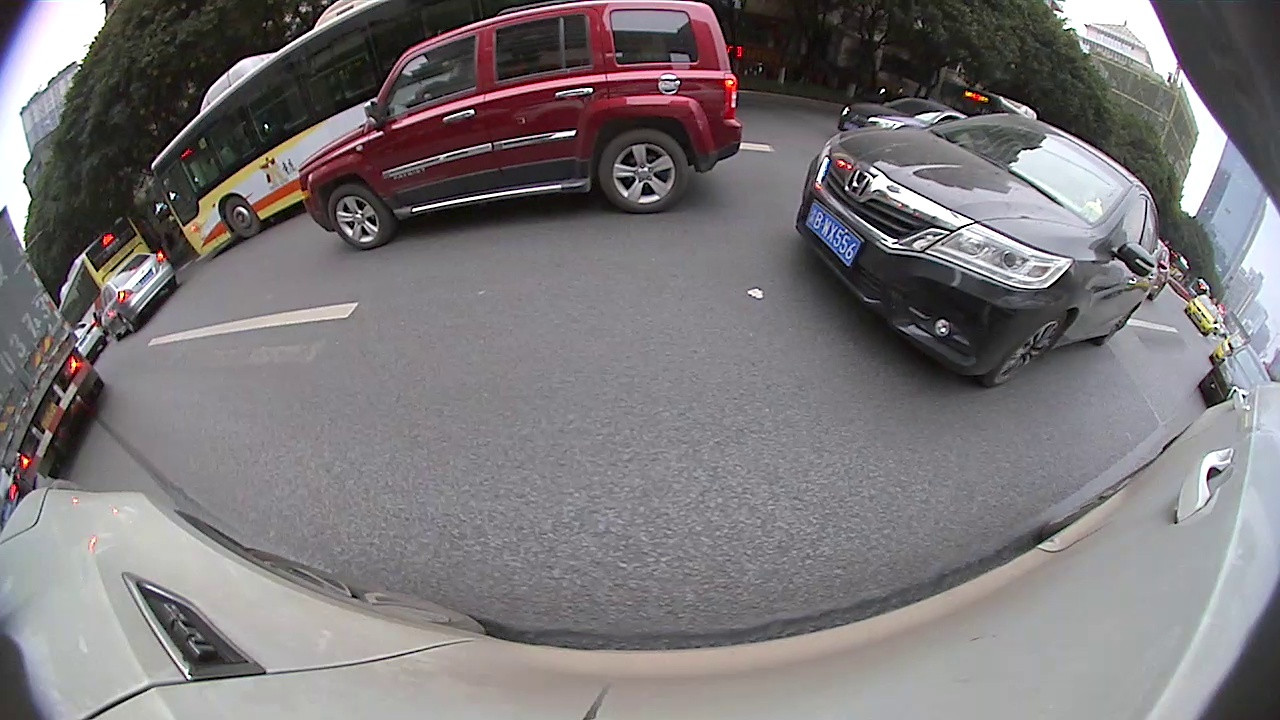bus: (152, 2, 510, 262), (57, 218, 147, 337)
car: (297, 1, 744, 254), (794, 111, 1164, 388), (91, 248, 180, 342), (834, 93, 968, 133), (1198, 347, 1272, 407), (1186, 293, 1221, 338)
front: (982, 308, 1069, 389), (328, 183, 399, 249), (224, 196, 261, 237)
rear: (599, 129, 690, 214), (118, 313, 139, 334)
truck: (0, 204, 100, 492)
